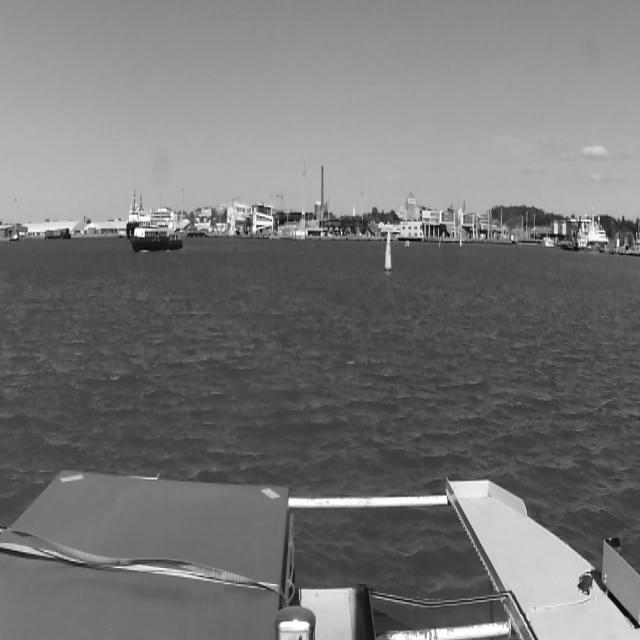buoy: (384, 233, 392, 268), (458, 232, 462, 245), (438, 235, 442, 246)
ship: (562, 212, 608, 250), (130, 223, 182, 250), (148, 202, 192, 230), (127, 191, 136, 237)
